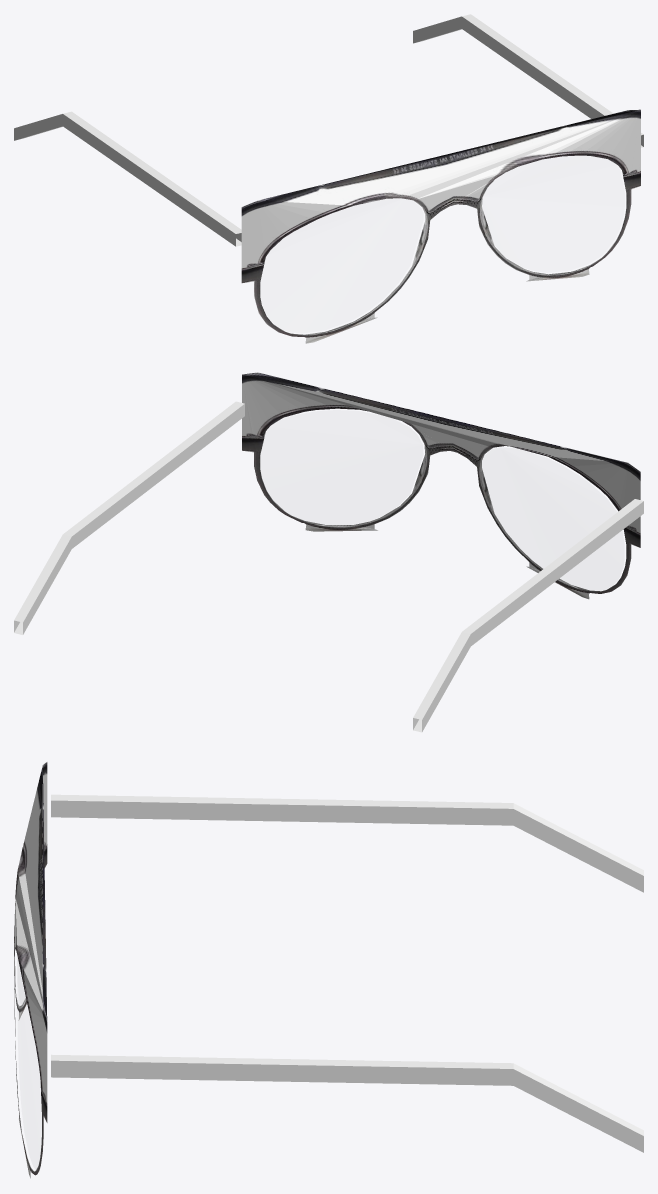
File: gothamstyle-stainless-34_matte-gunmetal.glb
The picture shows the model from 3 angles, top to bottom: view 1: azimuth 30°, elevation 25°; view 2: azimuth 150°, elevation 25°; view 3: azimuth 270°, elevation 25°; orthographic projection. The views are drawn at different scales.
Visible parts, largest first — view 1: frame_front, temple_viewer_left, temple_viewer_right; view 2: frame_front, temple_viewer_left, temple_viewer_right; view 3: temple_viewer_left, temple_viewer_right, frame_front.
Boxes of the visible parts, x1,y1,x2,y2 form: frame_front: (241,109,640,343); temple_viewer_left: (14,111,241,246); temple_viewer_right: (413,14,643,147); frame_front: (242,372,640,599); temple_viewer_left: (413,499,643,732); temple_viewer_right: (14,401,244,634); temple_viewer_left: (51,794,643,892); temple_viewer_right: (51,1054,643,1152); frame_front: (14,762,47,1178).
Bounding box in the file's own units: 0.1359 × 0.0479 × 0.136.
3 materials, 2 textured.
